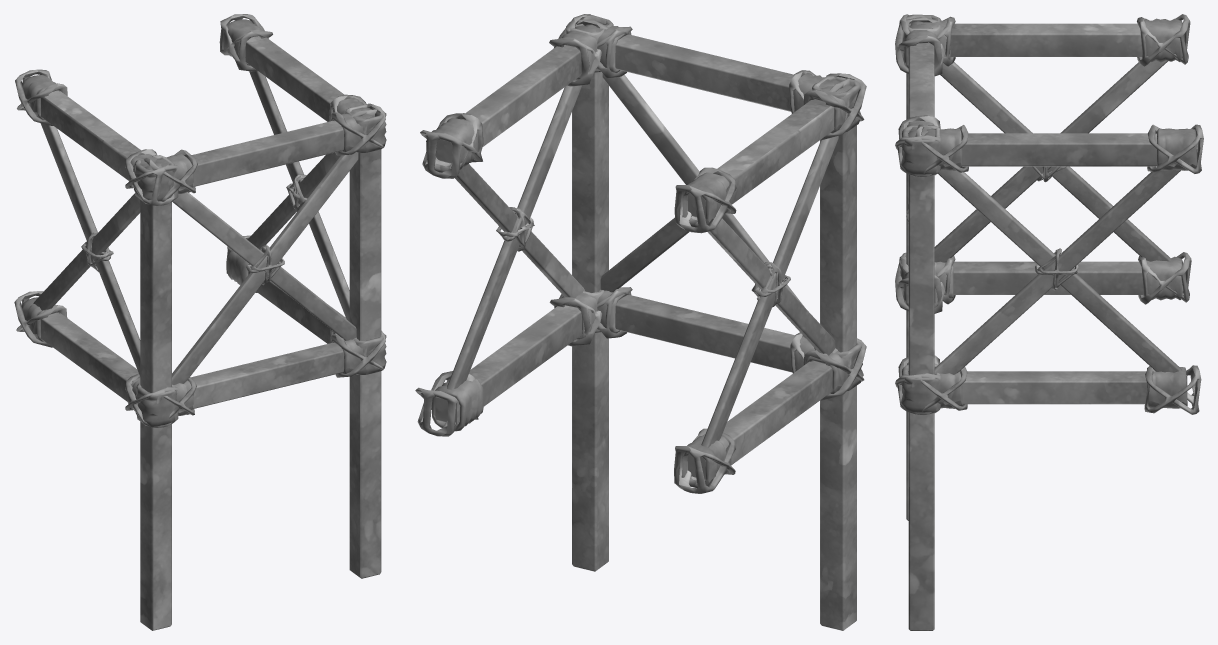
File: SM_Scafold_01b.fbx
3 renders of one model, left to right at view 1: azimuth 30°, elevation 25°; view 2: azimuth 150°, elevation 25°; view 3: azimuth 270°, elevation 25°, orthographic. The views are drawn at different scales.
Parts seen in each view (by area): view 1: SM_Scafold_01b_LOD0; view 2: SM_Scafold_01b_LOD0; view 3: SM_Scafold_01b_LOD0.
Boxes of the visible parts, x1=… form: SM_Scafold_01b_LOD0: x1=14, y1=14, x2=386, y2=630; SM_Scafold_01b_LOD0: x1=415, y1=14, x2=866, y2=630; SM_Scafold_01b_LOD0: x1=895, y1=14, x2=1203, y2=630.
Bounding box in the file's own units: 243 × 235 × 418.
